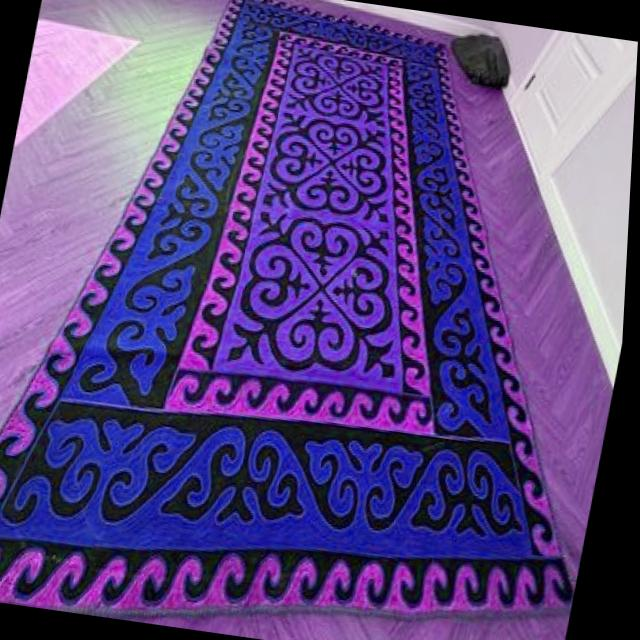Unity: (223, 213, 399, 381), (261, 112, 391, 225), (281, 47, 387, 129)
